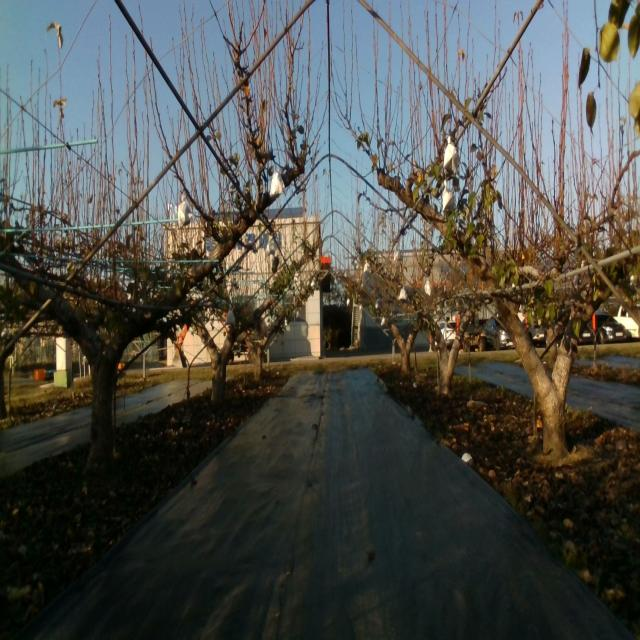pearbags: (443, 133, 458, 179), (178, 196, 193, 228), (269, 168, 285, 198), (442, 180, 454, 211)
